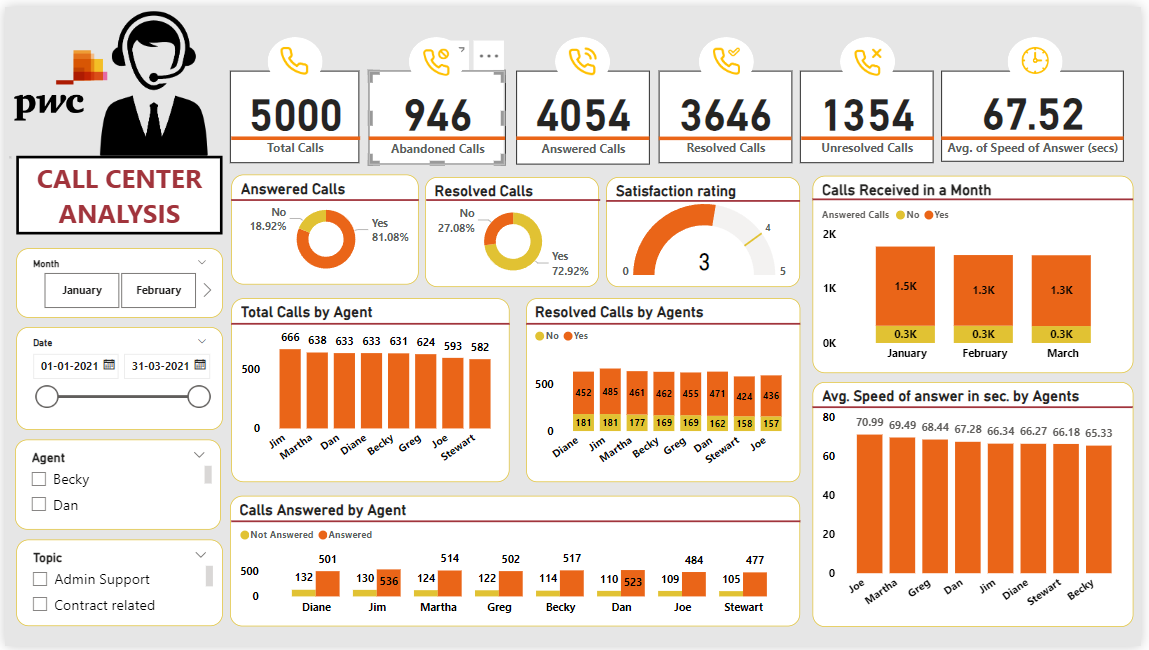

Layout of this report page (visuals, bound fields, positions):
{"tool":"powerbi","page":{"name":"Page 1","canvas":[1280,720],"ordinal":0},"visuals":[{"type":"card","fields":{"Values":["Sheet1.Call Id"]},"box":[254.1,71.6,145.9,104.1],"z":0,"group":"g1"},{"type":"card","fields":{"Values":["Sheet1.Speed of answer in seconds"]},"box":[1055.4,71.6,205.4,102.7],"z":0},{"type":"card","fields":{"Values":["Sheet1.Count of Answered Calls for No"]},"box":[409.7,71.6,154.1,105.4],"z":1000},{"type":"card","fields":{"Values":["Sheet1.Count of Answered Calls for Yes 2"]},"box":[575.9,71.6,150,105.4],"z":2000},{"type":"donutChart","title":"Answered Calls","fields":{"Y":["Sheet1.Answered Calls"],"Category":["Sheet1.Answered Calls"]},"box":[254.6,189.4,211.1,124.3],"z":3000},{"type":"donutChart","title":"Resolved Calls","fields":{"Category":["Sheet1.Calls Resolved"],"Y":["Sheet1.Calls Resolved"]},"box":[473.8,191.2,196.2,123.8],"z":4000},{"type":"card","fields":{"Values":["Sheet1.Count of Calls Resolved for Yes 2"]},"box":[736.8,71.6,150,104.1],"z":5000},{"type":"card","fields":{"Values":["Sheet1.Count of Calls Resolved for No"]},"box":[896.2,71.6,150,104.1],"z":6000},{"type":"slicer","fields":{"Values":["Sheet1.Date"]},"box":[12.5,360,232.5,116.2],"z":7000},{"type":"slicer","fields":{"Values":["Sheet1.Time.Variation.Date Hierarchy.Month"]},"box":[12.5,271.2,232.5,78.8],"z":8000},{"type":"slicer","fields":{"Values":["Sheet1.Agent"]},"box":[11.8,487.5,232.2,101.3],"z":9000},{"type":"slicer","fields":{"Values":["Sheet1.Topic"]},"box":[12.2,600,232.4,97.3],"z":10000},{"type":"columnChart","title":"Resolved Calls by Agents","fields":{"Category":["Sheet1.Agent"],"Y":["Sheet1.Count of Calls Resolved for No","Sheet1.Count of Calls Resolved for Yes 2"]},"box":[587.5,327.5,308.8,207.5],"z":11000},{"type":"gauge","title":"Satisfaction rating","fields":{"Y":["Sheet1.Satisfaction rating"],"MaxValue":["Sum(Sheet1.Satisfaction rating)1"],"TargetValue":["Sheet1.Target Satisfaction Rate"]},"box":[678,191.8,218.4,124.3],"z":12000},{"type":"columnChart","fields":{"Category":["Sheet1.Agent"],"Y":["Sheet1.Answered (Y/N)"]},"box":[255,327.5,313.8,207.5],"z":13000},{"type":"clusteredColumnChart","title":"Calls Answered by Agent","fields":{"Y":["Sheet1.Count of Answered Calls for No","Sheet1.Count of Answered Calls for Yes 2"],"Category":["Sheet1.Agent"]},"box":[253.8,550,642.5,147.5],"z":14000},{"type":"columnChart","title":"Avg. Speed of answer in sec. by Agents","fields":{"Category":["Sheet1.Agent"],"Y":["Sheet1.Speed of answer in seconds"]},"box":[910,422.5,361.2,276.2],"z":15000},{"type":"shape","box":[455.4,33.8,62.2,55.4],"z":16000},{"type":"shape","box":[620.3,33.8,62.2,55.4],"z":17000},{"type":"shape","box":[781.1,33.8,62.2,55.4],"z":18000},{"type":"shape","box":[940.5,33.8,62.2,55.4],"z":19000},{"type":"shape","box":[1129.7,33.8,62.2,55.4],"z":20000},{"type":"group","id":"g1","title":"Group 1","box":[254.1,71.6,145.9,104.1],"z":21000},{"type":"shape","box":[295.9,33.8,62.2,55.4],"z":22000},{"type":"image","box":[6,23.8,114.3,128.6],"z":23000},{"type":"textbox","box":[0,163.8,12.5,12.5],"z":24000},{"type":"image","box":[90.1,0.7,154.6,175],"z":25000},{"type":"shape","box":[255,211.2,211.2,12.5],"z":26000},{"type":"image","box":[628.8,41.2,45,41.2],"z":27000},{"type":"shape","box":[475,211.2,196.2,12.5],"z":28000},{"type":"shape","box":[678,211.1,218.4,14.5],"z":29000},{"type":"shape","box":[255,350,313.8,12.5],"z":30000},{"type":"shape","box":[587.5,350,308.8,12.5],"z":31000},{"type":"shape","box":[255,573.8,641.2,12.5],"z":32000},{"type":"shape","box":[910.4,445.5,361,11.7],"z":33000},{"type":"shape","box":[254.4,136.2,145.3,22.5],"z":34000},{"type":"shape","box":[410.3,136.2,153.8,22.5],"z":35000},{"type":"shape","box":[576.2,136.2,150,22.5],"z":36000},{"type":"shape","box":[736.8,136.5,149.8,22.8],"z":37000},{"type":"shape","box":[896.7,136.2,149.8,22.5],"z":38000},{"type":"shape","box":[1055.6,136.2,205.5,22.5],"z":39000},{"type":"image","box":[306.2,40,41.2,42.5],"z":40000},{"type":"image","box":[950,42.5,42.5,40],"z":41000},{"type":"image","box":[792.5,40,40,42.5],"z":42000},{"type":"image","box":[465,42.5,42.5,40],"z":43000},{"type":"image","box":[1141.2,40,40,41.2],"z":44000},{"type":"shape","box":[12.5,167.5,232.5,88.8],"z":45000},{"type":"columnChart","title":"Calls Received in a Month","fields":{"Y":["Sheet1.Call Id"],"Category":["Sheet1.Date.Variation.Date Hierarchy.Month"],"Series":["Sheet1.Answered Calls"]},"box":[910,190,361.2,222.5],"z":46000},{"type":"shape","box":[910,210,361.2,13.8],"z":47000}]}

Visuals, with their boxes in screenshot pixels (x1, y1, x2, y2), scaled from the page's 1280x720 canvas onto the 1149x650 screenshot:
card - Sheet1.Call Id: select_region(228, 65, 359, 159)
card - Sheet1.Speed of answer in seconds: select_region(947, 65, 1132, 157)
card - Sheet1.Count of Answered Calls for No: select_region(368, 65, 506, 160)
card - Sheet1.Count of Answered Calls for Yes 2: select_region(517, 65, 652, 160)
"Answered Calls" donutChart: select_region(229, 171, 418, 283)
"Resolved Calls" donutChart: select_region(425, 173, 601, 284)
card - Sheet1.Count of Calls Resolved for Yes 2: select_region(661, 65, 796, 159)
card - Sheet1.Count of Calls Resolved for No: select_region(804, 65, 939, 159)
slicer - Sheet1.Date: select_region(11, 325, 220, 430)
slicer - Sheet1.Time.Variation.Date Hierarchy.Month: select_region(11, 245, 220, 316)
slicer - Sheet1.Agent: select_region(11, 440, 219, 532)
slicer - Sheet1.Topic: select_region(11, 542, 220, 630)
"Resolved Calls by Agents" columnChart: select_region(527, 296, 805, 483)
"Satisfaction rating" gauge: select_region(609, 173, 805, 285)
columnChart - Sheet1.Agent x Sheet1.Answered (Y/N): select_region(229, 296, 511, 483)
"Calls Answered by Agent" clusteredColumnChart: select_region(228, 497, 805, 630)
"Avg. Speed of answer in sec. by Agents" columnChart: select_region(817, 381, 1141, 631)
shape: select_region(409, 31, 465, 81)
shape: select_region(557, 31, 613, 81)
shape: select_region(701, 31, 757, 81)
shape: select_region(844, 31, 900, 81)
shape: select_region(1014, 31, 1070, 81)
"Group 1" group: select_region(228, 65, 359, 159)
shape: select_region(266, 31, 321, 81)
image: select_region(5, 21, 108, 138)
textbox: select_region(0, 148, 11, 159)
image: select_region(81, 1, 220, 159)
shape: select_region(229, 191, 418, 202)
image: select_region(564, 37, 605, 74)
shape: select_region(426, 191, 603, 202)
shape: select_region(609, 191, 805, 204)
shape: select_region(229, 316, 511, 327)
shape: select_region(527, 316, 805, 327)
shape: select_region(229, 518, 804, 529)
shape: select_region(817, 402, 1141, 413)
shape: select_region(228, 123, 359, 143)
shape: select_region(368, 123, 506, 143)
shape: select_region(517, 123, 652, 143)
shape: select_region(661, 123, 796, 144)
shape: select_region(805, 123, 939, 143)
shape: select_region(948, 123, 1132, 143)
image: select_region(275, 36, 312, 74)
image: select_region(853, 38, 891, 74)
image: select_region(711, 36, 747, 74)
image: select_region(417, 38, 456, 74)
image: select_region(1024, 36, 1060, 73)
shape: select_region(11, 151, 220, 231)
"Calls Received in a Month" columnChart: select_region(817, 172, 1141, 372)
shape: select_region(817, 190, 1141, 202)
